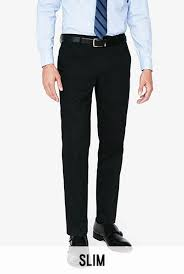F_belt: (54, 29, 132, 50)
F_dress pants: (54, 47, 131, 238)
